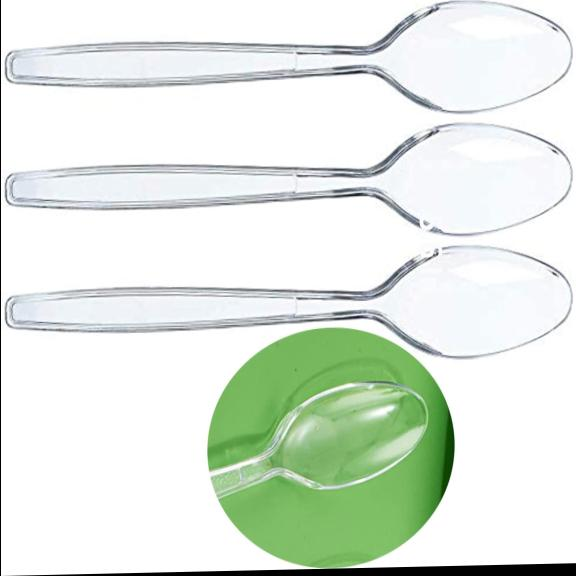Plastik: (5, 246, 570, 358), (6, 1, 570, 112), (6, 124, 570, 235), (210, 382, 426, 497)
